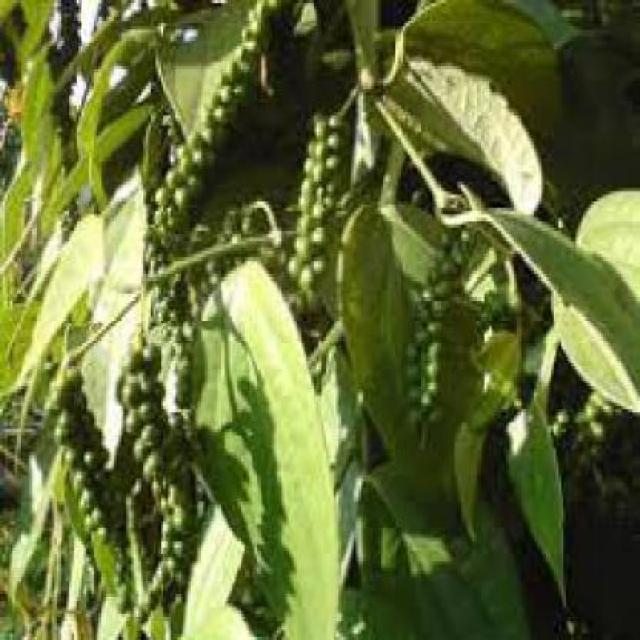UNRIPE: (141, 0, 274, 248), (113, 320, 182, 597), (45, 337, 109, 574), (406, 214, 468, 432), (286, 95, 342, 323)
